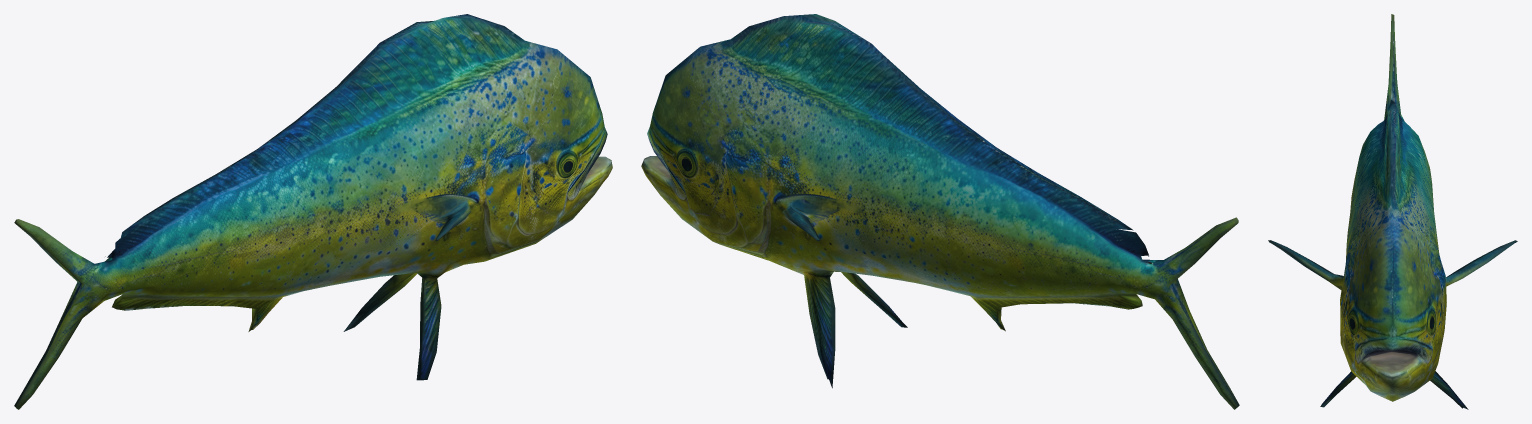
File: mahi.glb
3 renders of one model, left to right at view 1: azimuth 30°, elevation 25°; view 2: azimuth 150°, elevation 25°; view 3: azimuth 270°, elevation 25°, orthographic. The views are drawn at different scales.
Parts seen in each view (by area): view 1: tripo_node_877abd9d; view 2: tripo_node_877abd9d; view 3: tripo_node_877abd9d.
Part boxes in pixels (box(x1,y1,x2,y2)): tripo_node_877abd9d: box(14, 14, 612, 409); tripo_node_877abd9d: box(641, 14, 1239, 409); tripo_node_877abd9d: box(1268, 14, 1517, 409).
Bounding box in the file's own units: 95.96 × 50.83 × 35.98.
Materials: 1 (1 with a texture image).
